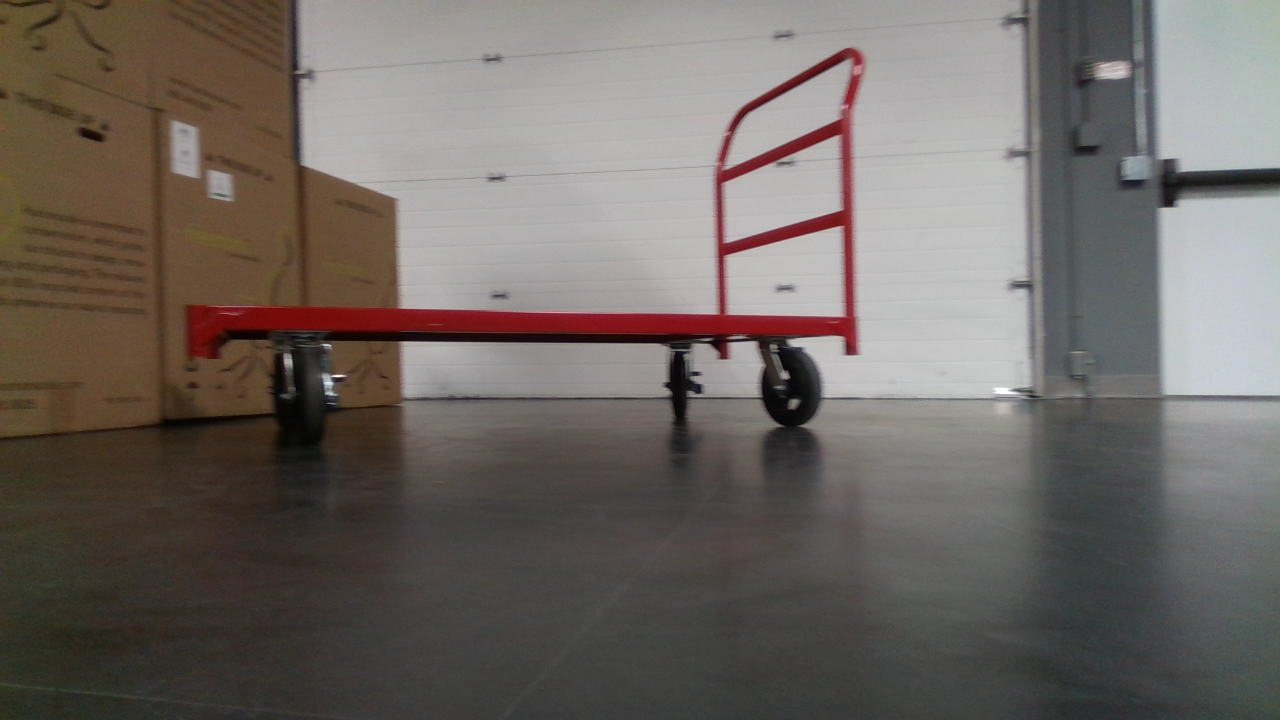Dolly: (184, 45, 868, 454)
Wheel: (276, 344, 343, 445), (752, 343, 828, 429), (660, 343, 704, 422)
